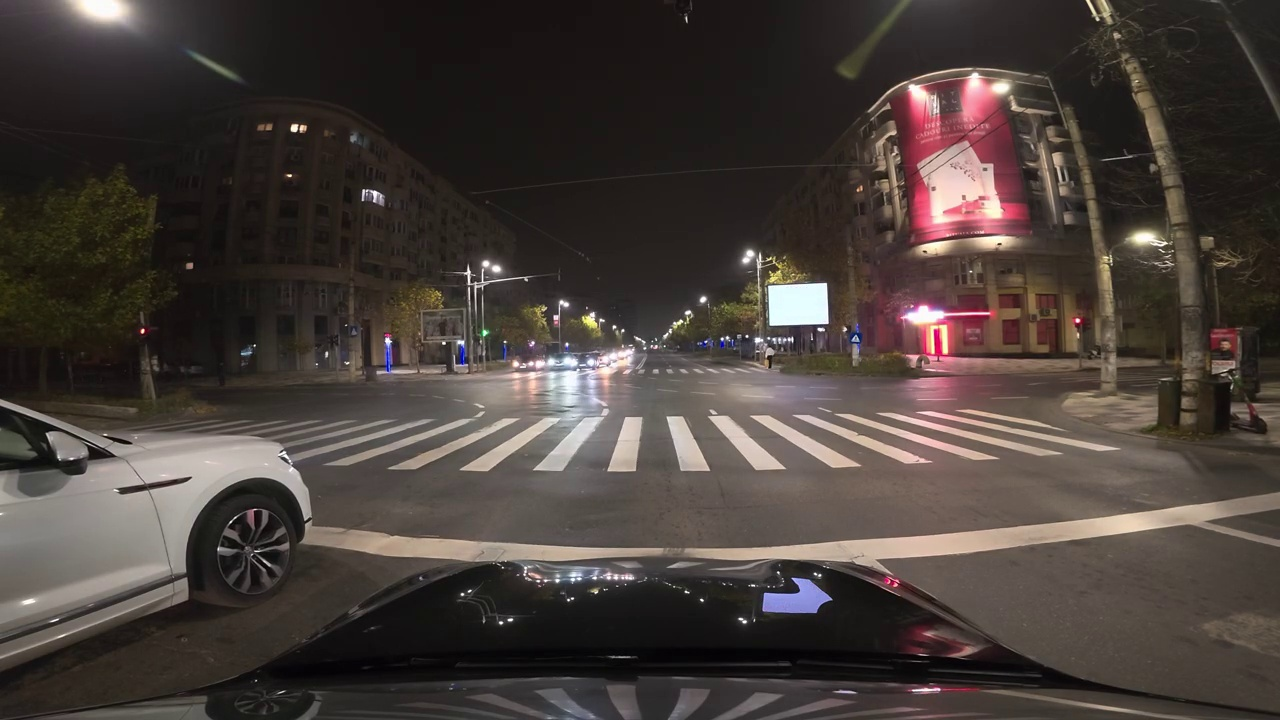acesa: (71, 0, 132, 29), (739, 247, 756, 269)
